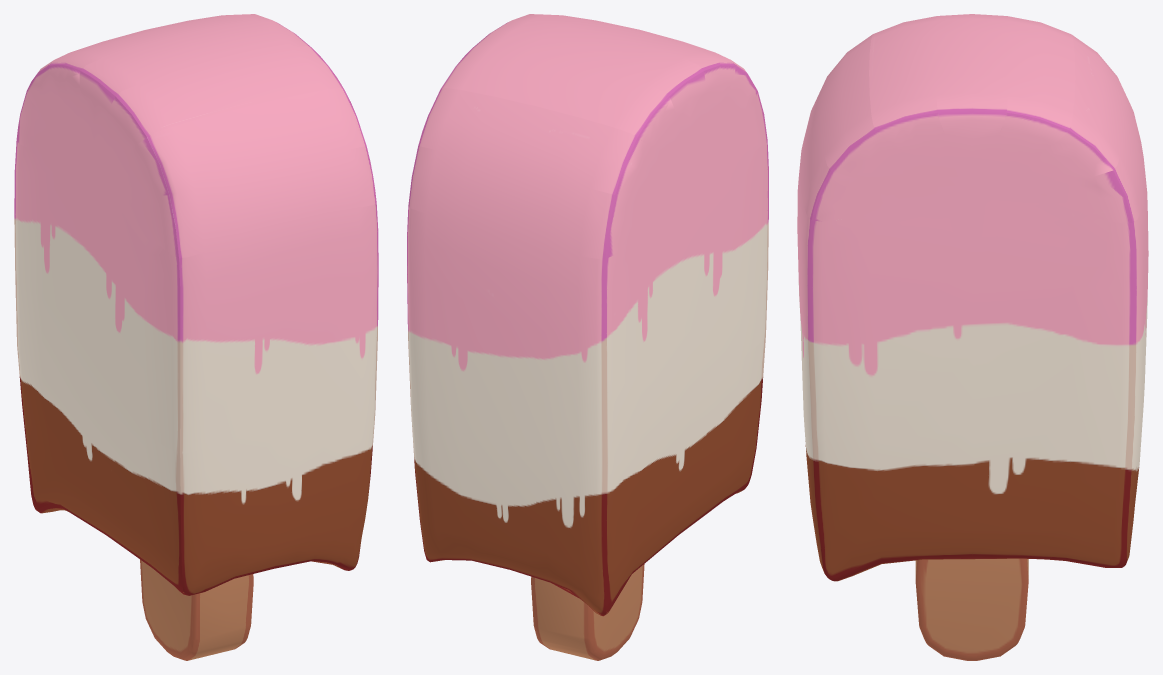
The model's file is iceCream.glb.
3 views of the same model, side by side, from view 1: azimuth 30°, elevation 25°; view 2: azimuth 150°, elevation 25°; view 3: azimuth 270°, elevation 25° (orthographic).
Parts seen in each view (by area): view 1: Icecream; view 2: Icecream; view 3: Icecream.
Boxes of the visible parts, box(x1,y1,x2,y2) form: Icecream: box(14, 14, 378, 660); Icecream: box(407, 14, 768, 660); Icecream: box(797, 14, 1148, 660).
Size of the model in its own units: 1.4 by 3.86 by 2.05.
1 material, 1 textured.
